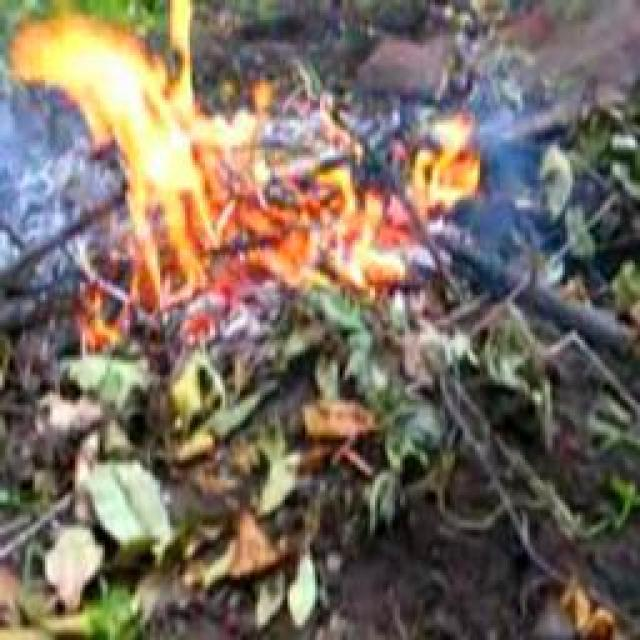Fire: (125, 118, 475, 327), (9, 28, 229, 212)
